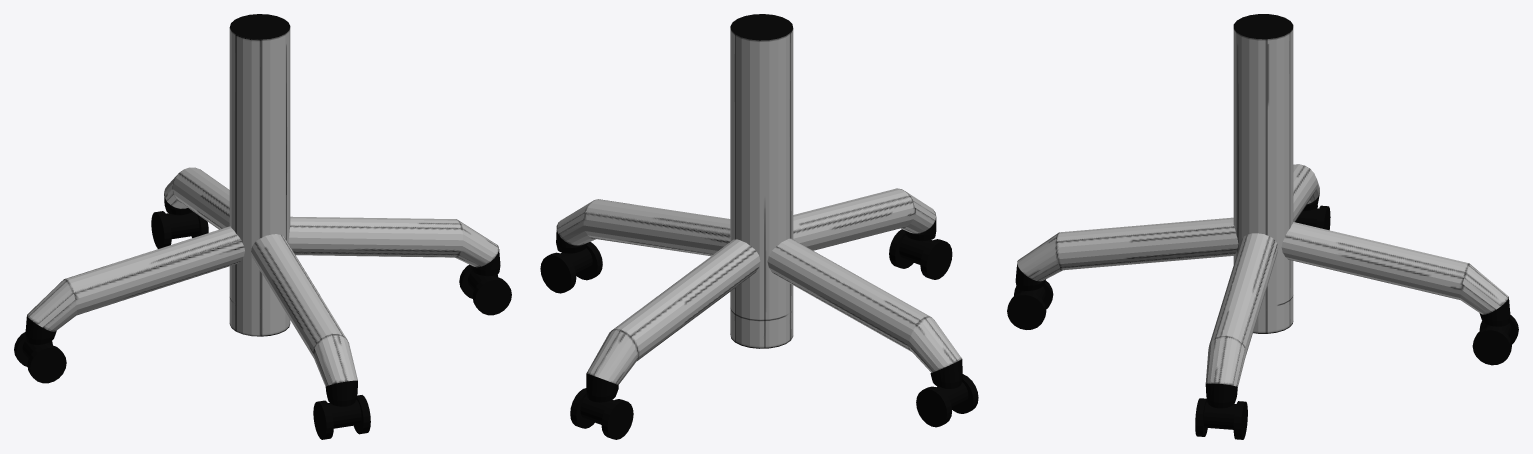
File: stoelpoot.fbx
3 renders of one model, left to right at view 1: azimuth 30°, elevation 25°; view 2: azimuth 150°, elevation 25°; view 3: azimuth 270°, elevation 25°, orthographic. The views are drawn at different scales.
Visible parts, largest first — view 1: stoelpoot; view 2: stoelpoot; view 3: stoelpoot.
Boxes of the visible parts, left/top/right/bottom form: stoelpoot: left=14, top=14, right=511, bottom=439; stoelpoot: left=540, top=14, right=978, bottom=439; stoelpoot: left=1007, top=14, right=1518, bottom=439.
Bounding box in the file's own units: 0.9589 × 0.6469 × 0.9649.
